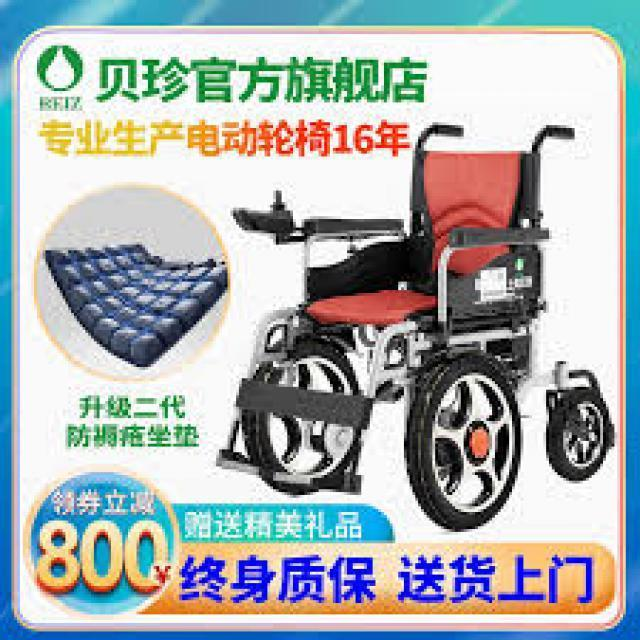wheelchairs: (231, 119, 609, 532)
